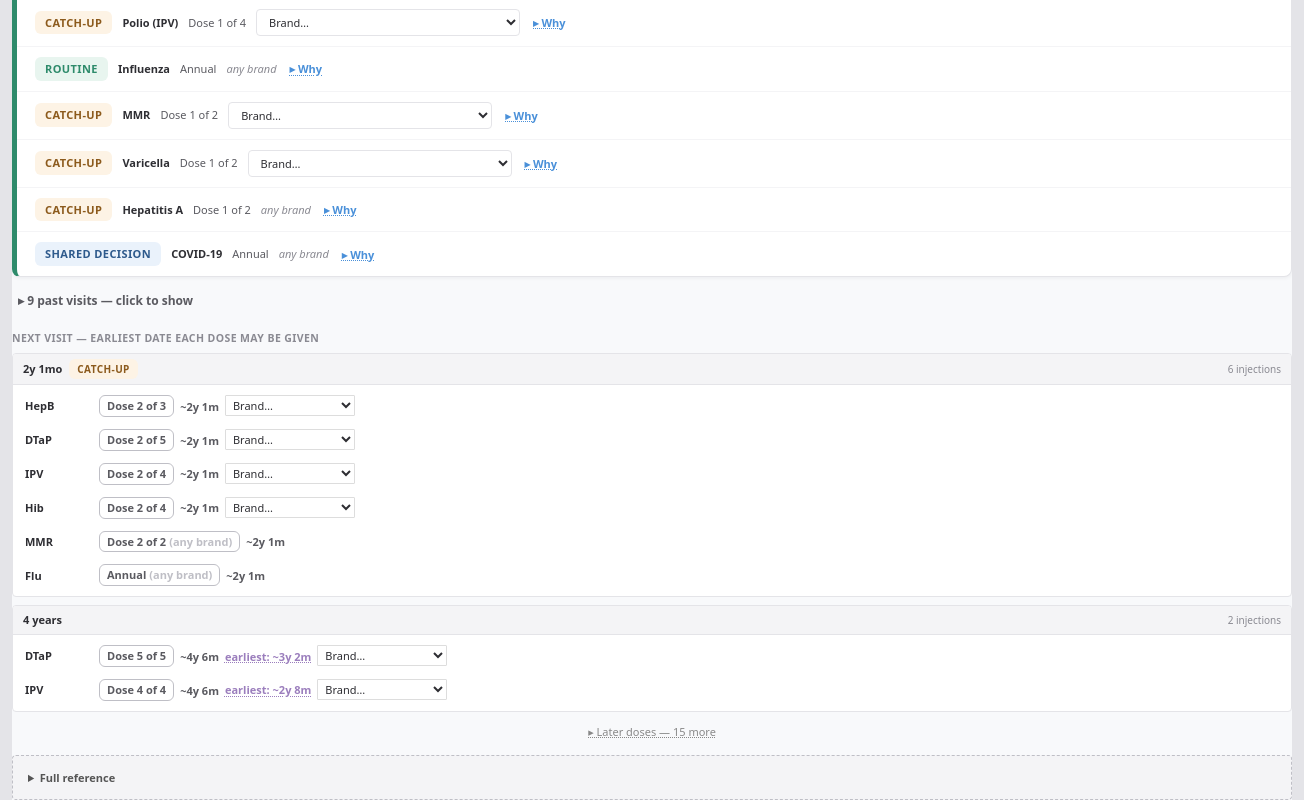
Scenario: ForecastTab — future first-dose fallback › empty 2yo: 16-years card shows MenB D1 + MenACWY D2 booster, no duplicate D1s
(page scrolled)
Click the button with class "fct-show-full-btn". click: (652, 731)
box: x1=580 y1=720 x2=724 y2=743
(page scrolled)
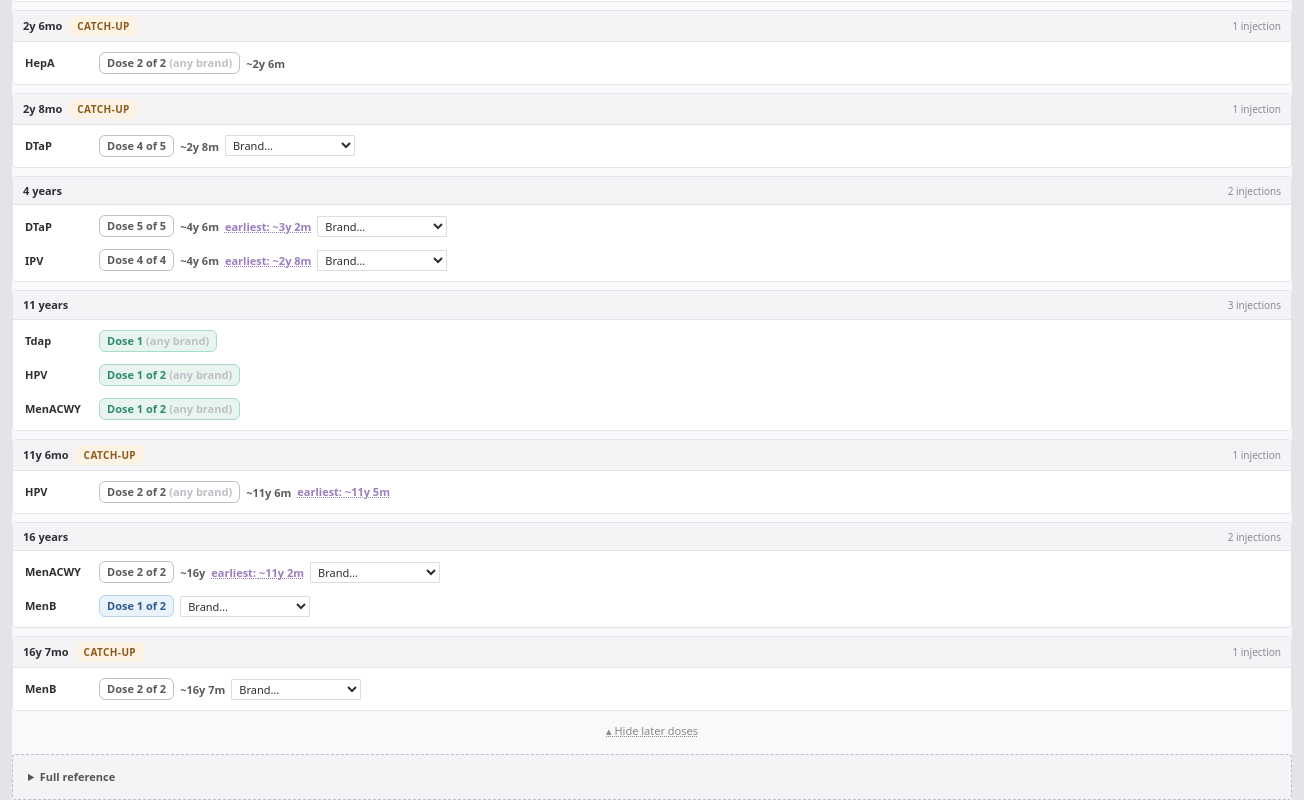
Result: the element that starts with "16 years" is shown at x1=12 y1=522 x2=1292 y2=628
Result: the element showing "MenB Dose 1 of 2" is shown at x1=25 y1=595 x2=310 y2=617
Result: the element showing "MenACWY Dose 2 of 2 ~16y earliest: ~11y 2m" is shown at x1=25 y1=561 x2=440 y2=583
